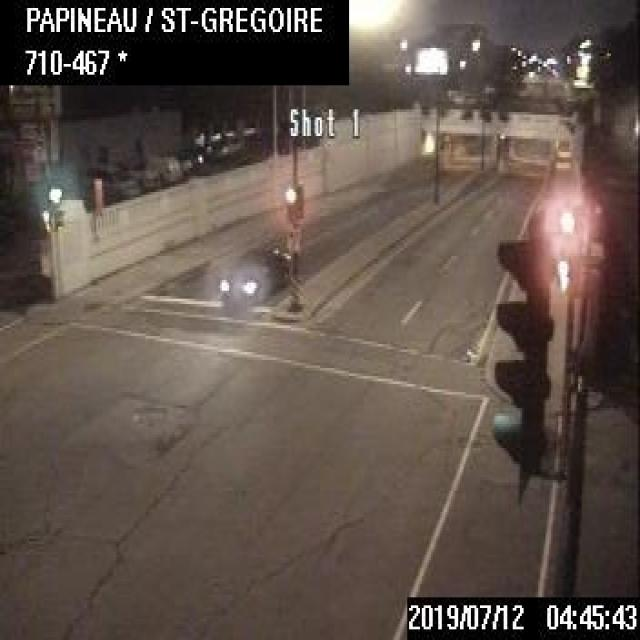vehicle: (218, 245, 289, 299), (81, 158, 140, 199)
